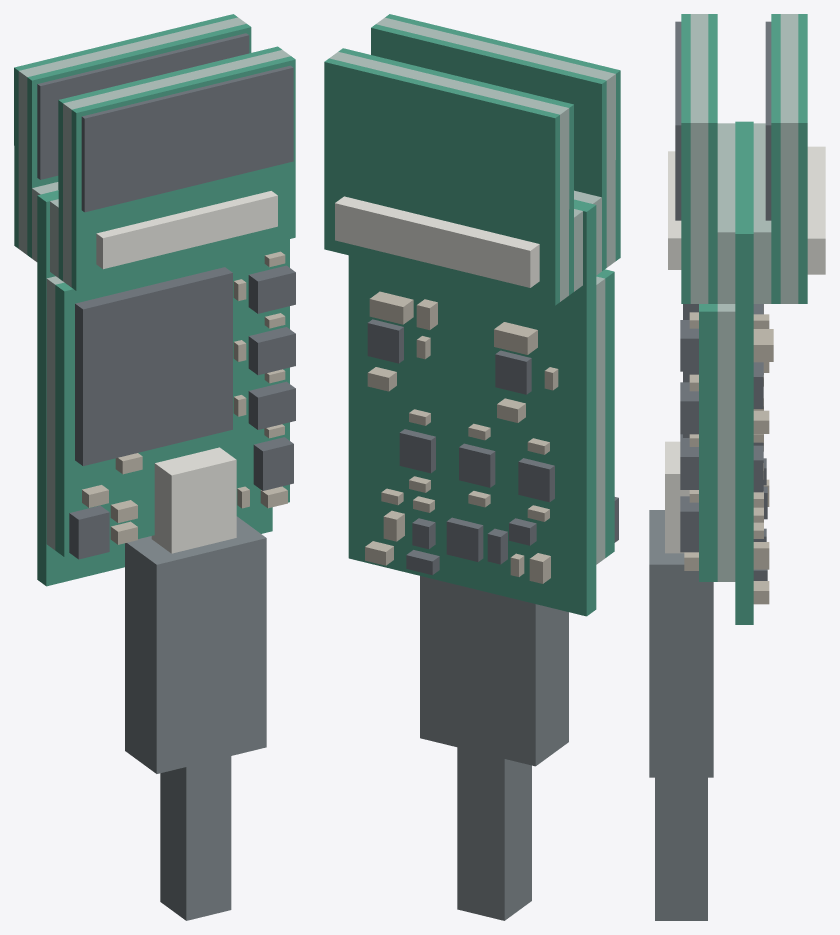
The model's file is Option_A_Head_Stack_V16_Solid.glb.
3 renders of one model, left to right at view 1: azimuth 30°, elevation 25°; view 2: azimuth 150°, elevation 25°; view 3: azimuth 270°, elevation 25°, orthographic. The views are drawn at different scales.
Visible parts, largest first — view 1: ic, board, plug, conn, fill, passive; view 2: board, plug, fill, ic, conn, passive; view 3: board, fill, plug, ic, conn, passive.
Part boxes in pixels (bbox=[...]): ic: bbox=[37, 33, 295, 559]; board: bbox=[14, 14, 295, 586]; plug: bbox=[125, 516, 266, 920]; conn: bbox=[96, 191, 277, 553]; fill: bbox=[18, 17, 290, 549]; passive: bbox=[82, 251, 287, 544]; board: bbox=[324, 14, 620, 616]; plug: bbox=[420, 576, 568, 920]; fill: bbox=[329, 17, 615, 564]; ic: bbox=[367, 319, 618, 575]; conn: bbox=[335, 196, 539, 287]; passive: bbox=[365, 291, 558, 583]; board: bbox=[681, 14, 807, 624]; fill: bbox=[690, 14, 798, 581]; plug: bbox=[649, 510, 713, 920]; ic: bbox=[675, 21, 771, 580]; conn: bbox=[665, 146, 825, 553]; passive: bbox=[684, 304, 773, 604].
Size of the model in its own units: 22.64 by 78.64 by 15.04.
